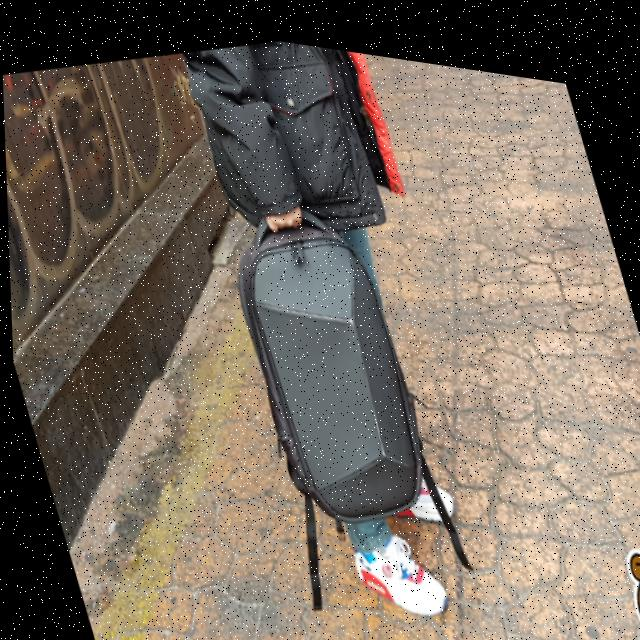backpack: (212, 161, 475, 551)
